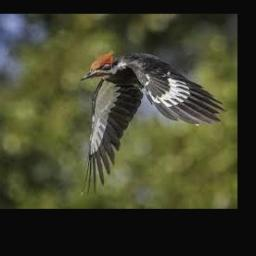Woodpecker: (81, 50, 226, 196)
